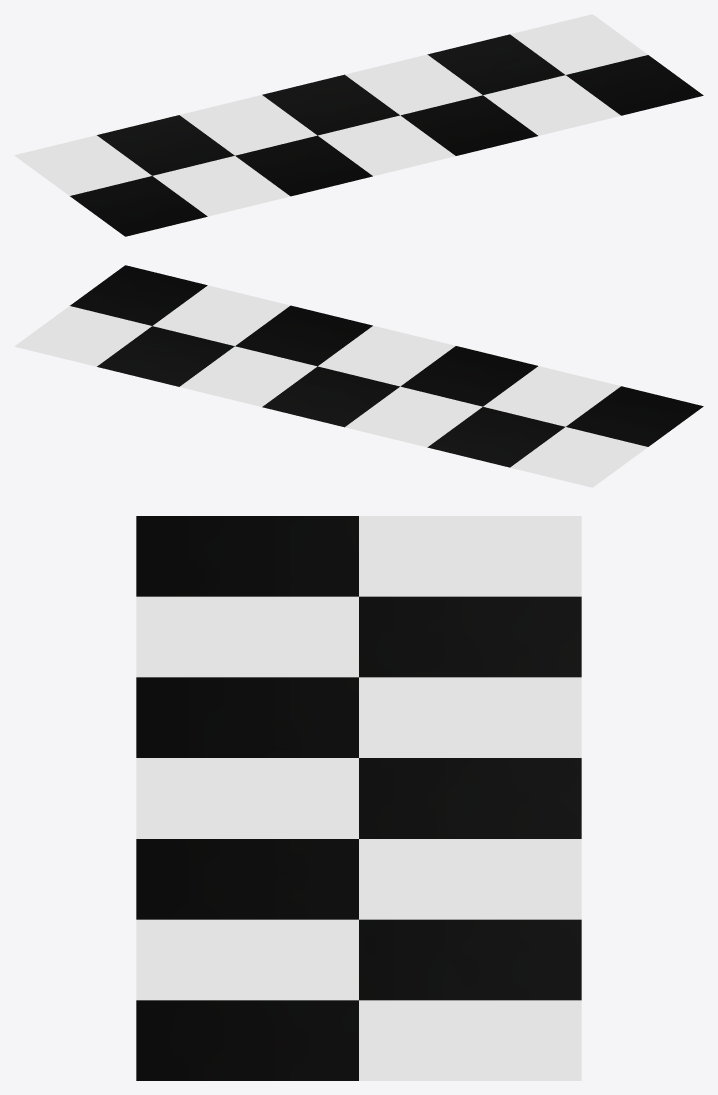
File: FinishLine.fbx
3 views of the same model, one above another, from view 1: azimuth 30°, elevation 25°; view 2: azimuth 150°, elevation 25°; view 3: azimuth 270°, elevation 25° (orthographic). The views are drawn at different scales.
Parts seen in each view (by area): view 1: Plane; view 2: Plane; view 3: Plane.
Part boxes in pixels (<box>): Plane: <box>14,14,703,236</box>; Plane: <box>14,265,703,487</box>; Plane: <box>136,516,581,1080</box>.
Size of the model in its own units: 6 by 3.26e-07 by 2.
